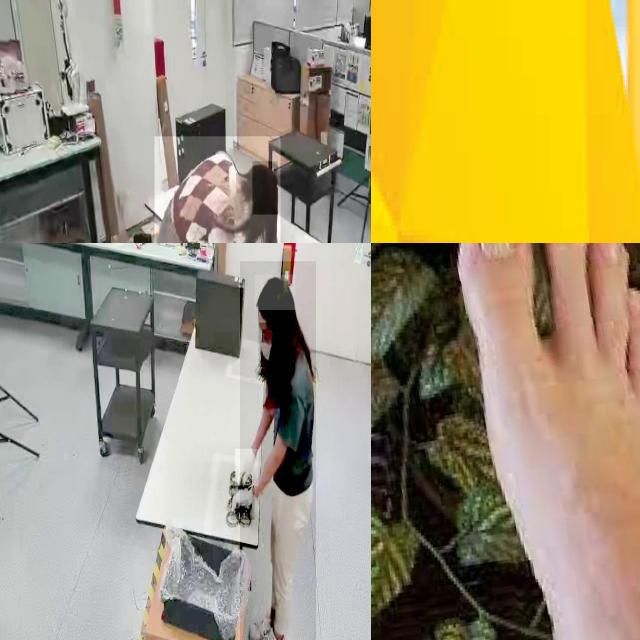Barefoots: (452, 243, 640, 640)
face_mask: (258, 323, 276, 367)
hand_glove: (235, 449, 259, 486), (231, 485, 255, 521)
head_nohelmet: (254, 275, 296, 311), (252, 162, 278, 216)
person: (239, 261, 316, 640), (154, 136, 281, 243)
shoes: (248, 609, 274, 640), (254, 627, 285, 640)
